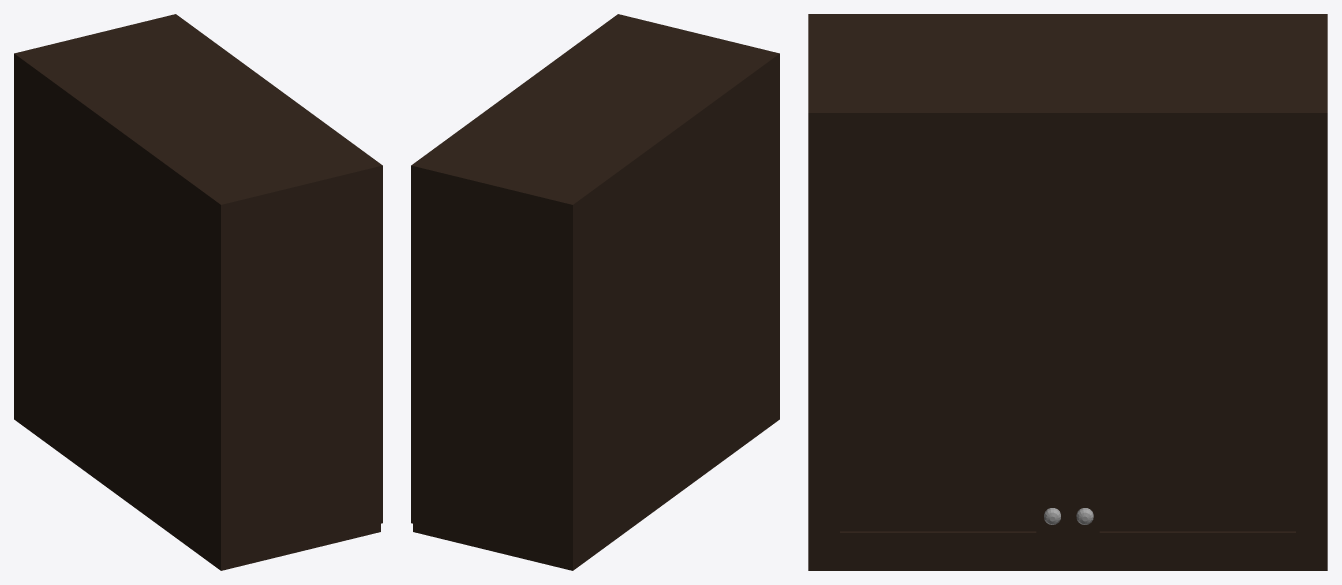
The model's file is cupboard.fbx.
The picture shows the model from 3 angles, left to right: view 1: azimuth 30°, elevation 25°; view 2: azimuth 150°, elevation 25°; view 3: azimuth 270°, elevation 25°; orthographic projection. The views are drawn at different scales.
Visible parts, largest first — view 1: Box059; view 2: Box059; view 3: Box059.
Boxes of the visible parts, x1,y1,x2,y2 form: Box059: (14, 14, 382, 570); Box059: (411, 14, 779, 570); Box059: (808, 14, 1327, 570).
Size of the model in its own units: 7.8 by 15.75 by 16.14.
